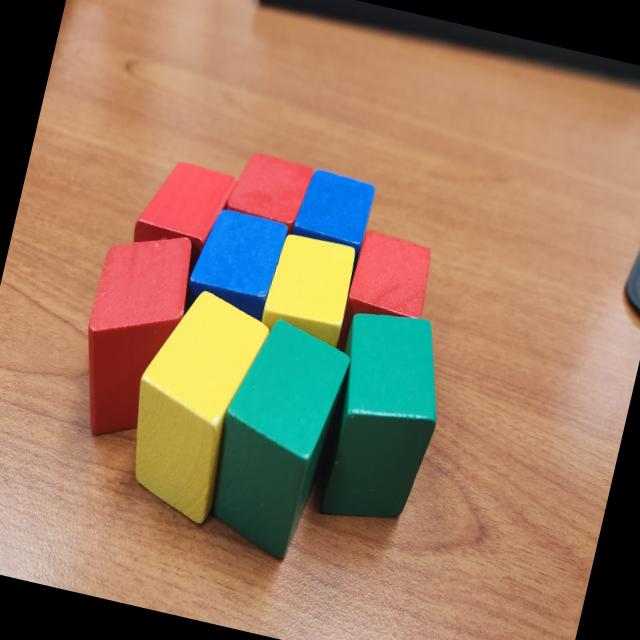blue: (180, 203, 292, 334), (280, 166, 376, 292)
green: (194, 310, 357, 566), (306, 302, 460, 536)
red: (63, 220, 203, 450), (115, 152, 239, 320), (339, 227, 438, 338), (223, 146, 317, 235)
yellow: (111, 281, 276, 534), (258, 230, 362, 353)
